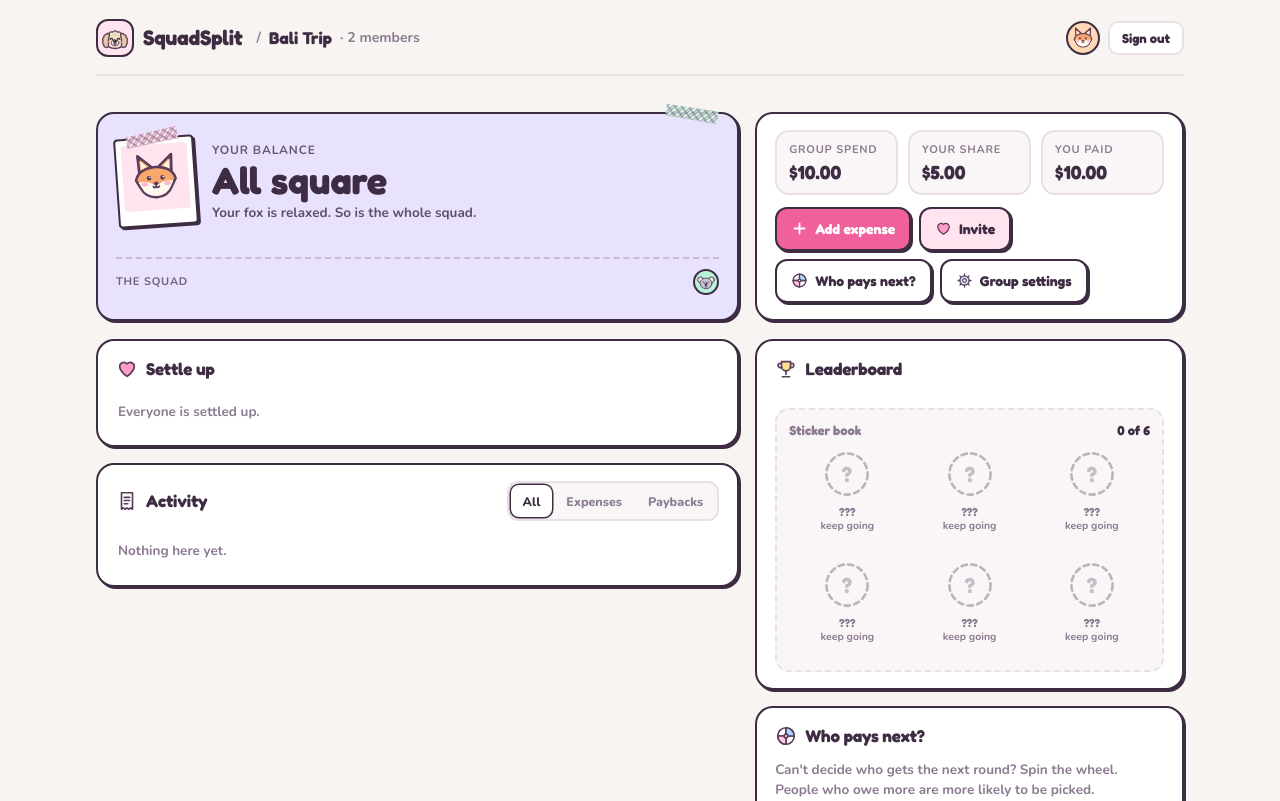
Test: inviting from the group home › opens the card in a sheet from the Invite button, and closes back to the group
Later steps or results of the test are not shown.
Click the link "Invite" at (965, 229), box [919,207,1011,251]
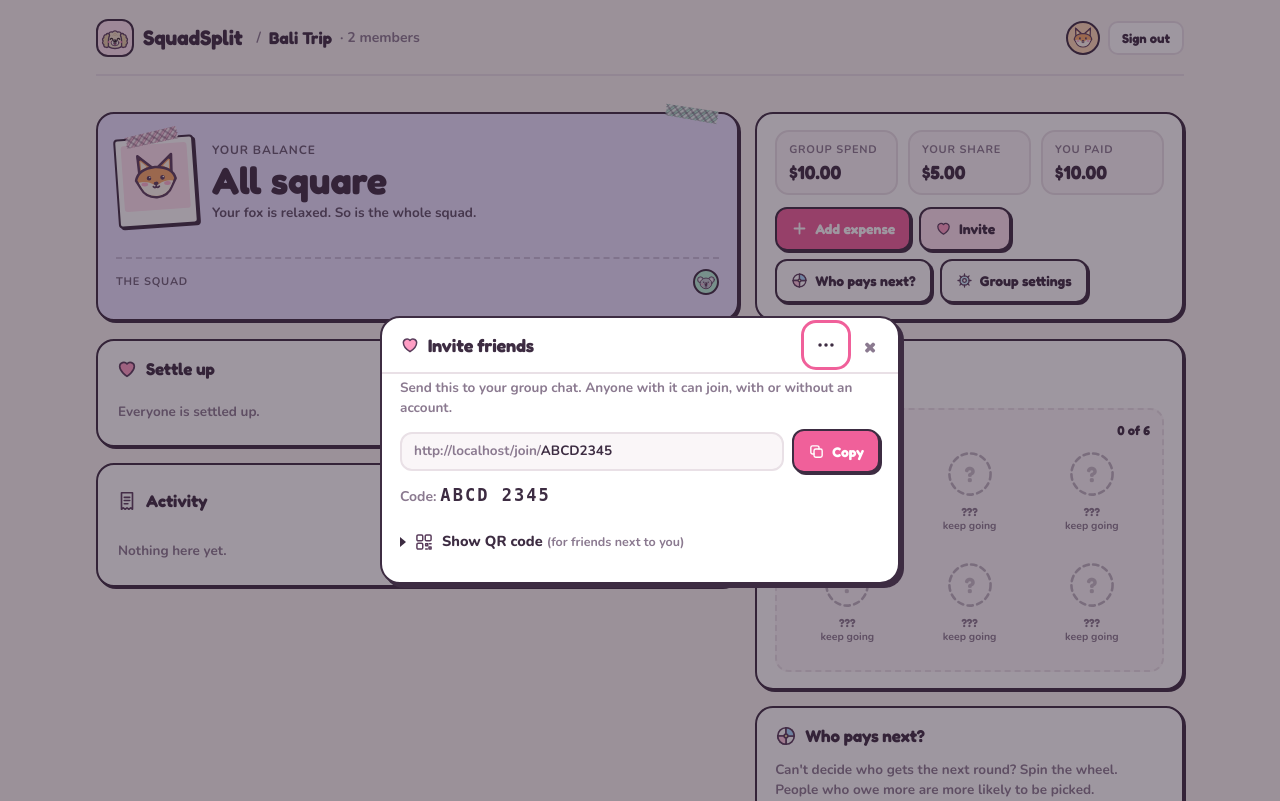
Now the text "ABCD2345" is shown, box [541,441,612,460]
